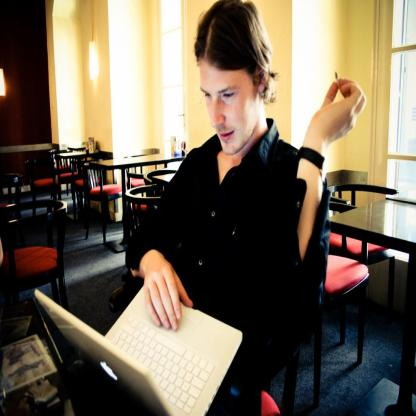board: (34, 284, 243, 416)
